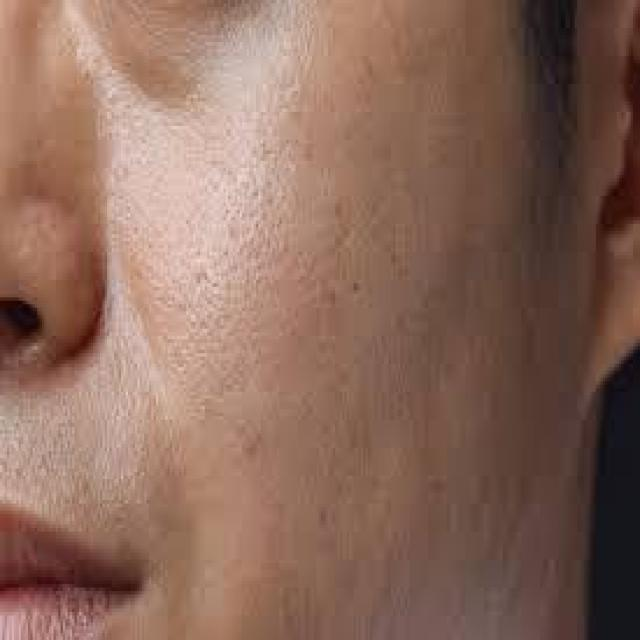pores: (178, 190, 292, 422)
